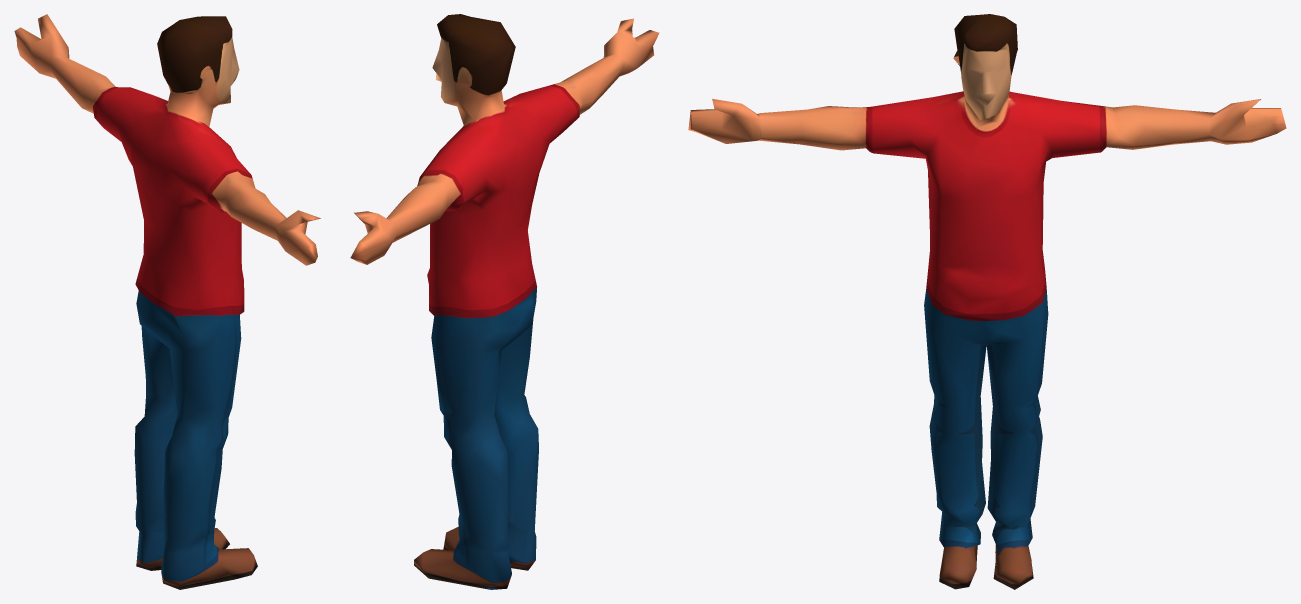
Rendered from tripo_convert_62119f6d-2008-42c3-b402-8966a0c055a3.fbx.
The picture shows the model from 3 angles, left to right: view 1: azimuth 30°, elevation 25°; view 2: azimuth 150°, elevation 25°; view 3: azimuth 270°, elevation 25°; orthographic projection.
Visible parts, largest first — view 1: tripo_node_62119f6d; view 2: tripo_node_62119f6d; view 3: tripo_node_62119f6d.
Boxes of the visible parts, bbox=[...] form: tripo_node_62119f6d: bbox=[14, 14, 320, 589]; tripo_node_62119f6d: bbox=[350, 14, 659, 589]; tripo_node_62119f6d: bbox=[688, 14, 1286, 589].
Size of the model in its own units: 0.1842 by 1 by 0.987.
Materials: 1 (1 with a texture image).
